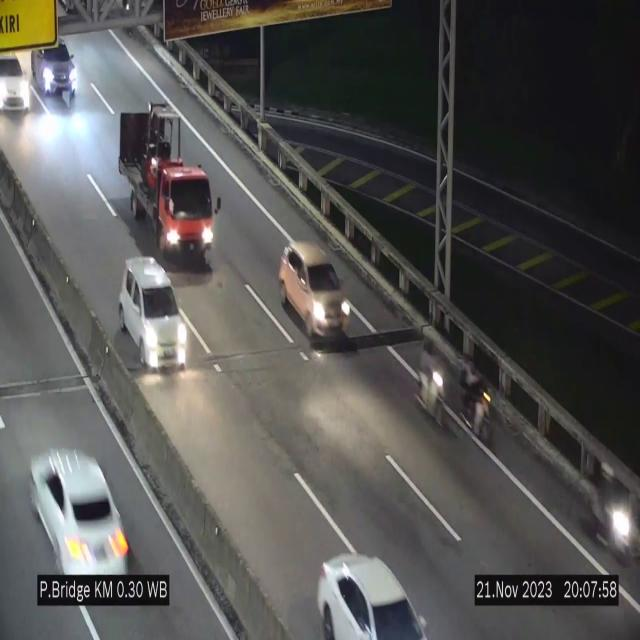Car: (29, 428, 141, 614), (318, 554, 440, 640), (119, 257, 188, 369), (278, 242, 352, 341), (28, 28, 82, 110), (0, 47, 30, 131)
Motorcycle: (582, 457, 634, 564), (462, 354, 497, 451), (421, 338, 449, 432)
Truck: (118, 108, 215, 268)
